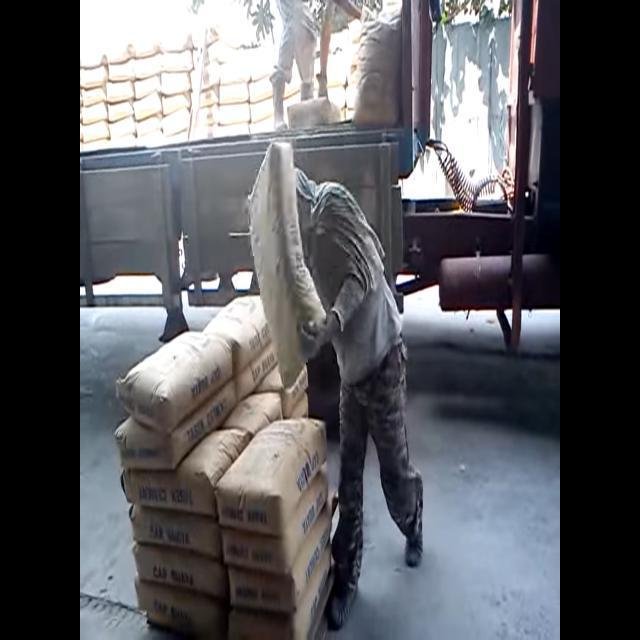gunny_bag: (249, 140, 326, 390), (216, 418, 327, 536), (222, 463, 328, 575), (116, 331, 232, 433), (121, 428, 251, 517), (228, 505, 331, 613), (114, 380, 237, 470), (203, 295, 271, 375), (132, 543, 228, 599), (129, 504, 222, 560), (223, 391, 282, 435), (132, 91, 162, 119), (162, 91, 191, 114), (161, 71, 191, 93), (134, 73, 161, 97), (106, 79, 134, 102), (108, 100, 133, 121)
